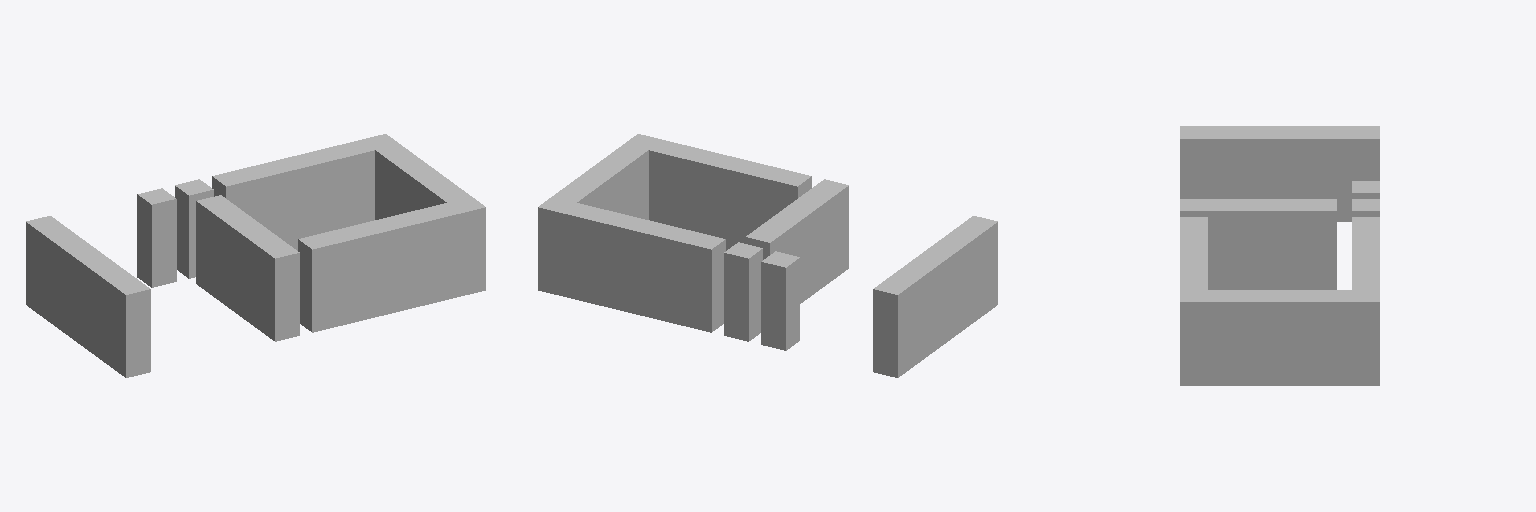
File: BakoText.obj
3 renders of one model, left to right at view 1: azimuth 30°, elevation 25°; view 2: azimuth 150°, elevation 25°; view 3: azimuth 270°, elevation 25°, orthographic.
Visible parts, largest first — view 1: テキスト; view 2: テキスト; view 3: テキスト.
Boxes of the visible parts, x1,y1,x2,y2 form: テキスト: [26, 134, 485, 377]; テキスト: [538, 134, 997, 377]; テキスト: [1180, 126, 1379, 385].
Bounding box in the file's own units: 1.81 × 0.4 × 0.875.